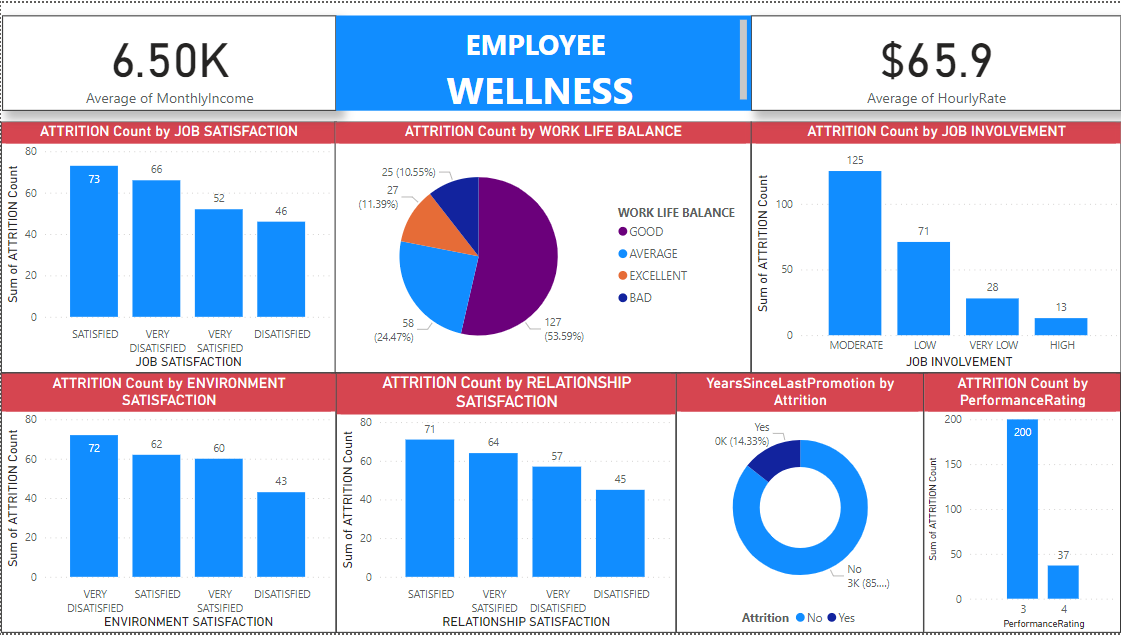

What the dashboard file says about the page in this screenshot:
{"tool":"powerbi","page":{"name":"Page 4","canvas":[1280,720],"ordinal":3},"visuals":[{"type":"columnChart","title":" ATTRITION Count by JOB SATISFACTION","fields":{"Category":["HR-Employee-Attrition.JOB SATISFACTION"],"Y":["Sum(HR-Employee-Attrition.attribution count)"]},"box":[0,135.7,382.9,287.1],"z":0},{"type":"pieChart","title":"ATTRITION Count by WORK LIFE BALANCE","fields":{"Y":["Sum(HR-Employee-Attrition.attribution count)"],"Category":["HR-Employee-Attrition.WORK LIFE BALANCE"]},"box":[381.4,135.7,475.7,287.1],"z":1},{"type":"donutChart","title":"YearsSinceLastPromotion by Attrition","fields":{"Y":["Sum(HR-Employee-Attrition.YearsSinceLastPromotion)"],"Category":["HR-Employee-Attrition.Attrition"]},"box":[771.4,422.9,282.9,297.1],"z":2},{"type":"columnChart","title":"ATTRITION Count by ENVIRONMENT SATISFACTION","fields":{"Category":["HR-Employee-Attrition.ENVIRONMENT SATISFACTION"],"Y":["Sum(HR-Employee-Attrition.attribution count)"]},"box":[0,422.9,382.9,297.1],"z":3},{"type":"columnChart","title":"ATTRITION Count              by RELATIONSHIP SATISFACTION","fields":{"Category":["HR-Employee-Attrition.RELATIONSHIP SATISFACTION"],"Y":["Sum(HR-Employee-Attrition.attribution count)"]},"box":[382.9,422.9,388.6,297.1],"z":4},{"type":"columnChart","title":"ATTRITION Count by JOB INVOLVEMENT","fields":{"Category":["HR-Employee-Attrition.JOB INVOLVEMENT"],"Y":["Sum(HR-Employee-Attrition.attribution count)"]},"box":[857.1,135.7,422.9,287.1],"z":5},{"type":"columnChart","title":" ATTRITION Count by PerformanceRating","fields":{"Y":["Sum(HR-Employee-Attrition.attribution count)"],"Category":["HR-Employee-Attrition.PerformanceRating"]},"box":[1054.3,422.9,225.7,297.1],"z":6},{"type":"card","fields":{"Values":["Avg(HR-Employee-Attrition.MonthlyIncome)"]},"box":[1.4,14.3,381.4,108.6],"z":7},{"type":"card","fields":{"Values":["Avg(HR-Employee-Attrition.HourlyRate)"]},"box":[857.1,14.3,422.9,108.6],"z":9},{"type":"textbox","box":[382.9,14.3,474.3,108.6],"z":10}]}

Visuals, with their boxes in screenshot pixels (x1, y1, x2, y2), scaled from the page's 1280x720 canvas onto the 1121x642 screenshot:
" ATTRITION Count by JOB SATISFACTION" columnChart: <box>0,121,335,377</box>
"ATTRITION Count by WORK LIFE BALANCE" pieChart: <box>334,121,751,377</box>
"YearsSinceLastPromotion by Attrition" donutChart: <box>676,377,923,641</box>
"ATTRITION Count by ENVIRONMENT SATISFACTION" columnChart: <box>0,377,335,641</box>
"ATTRITION Count              by RELATIONSHIP SATISFACTION" columnChart: <box>335,377,676,641</box>
"ATTRITION Count by JOB INVOLVEMENT" columnChart: <box>751,121,1120,377</box>
" ATTRITION Count by PerformanceRating" columnChart: <box>923,377,1120,641</box>
card - Avg(HR-Employee-Attrition.MonthlyIncome): <box>1,13,335,110</box>
card - Avg(HR-Employee-Attrition.HourlyRate): <box>751,13,1120,110</box>
textbox: <box>335,13,751,110</box>
